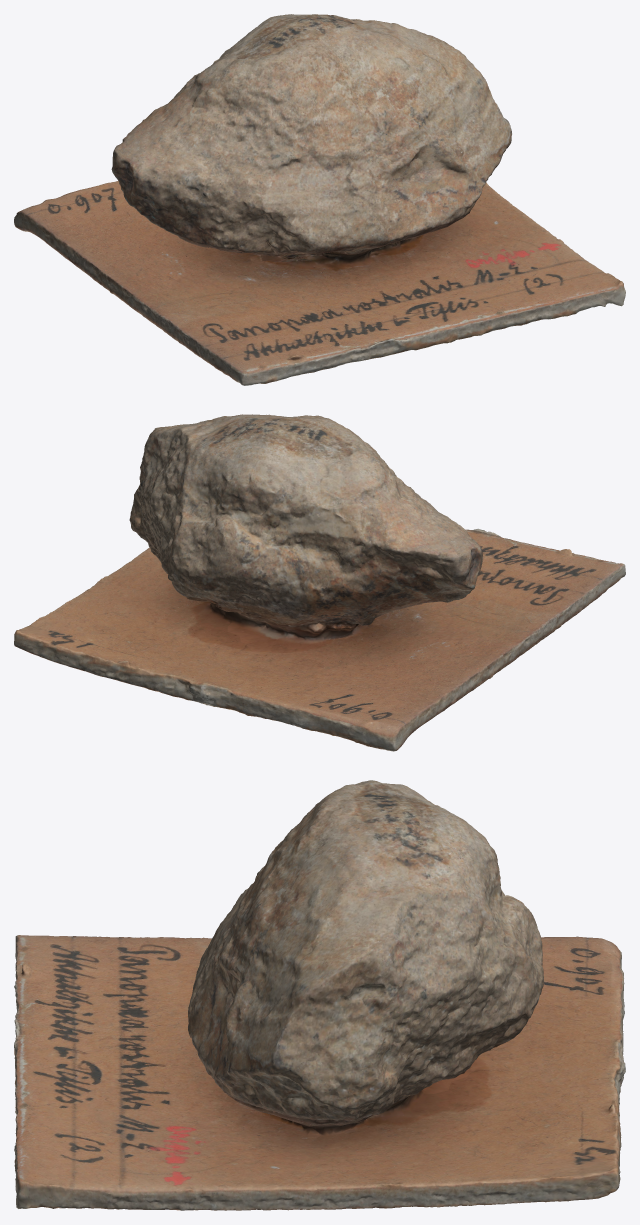
The model's file is EWS0016459.glb.
The picture shows the model from 3 angles, top to bottom: view 1: azimuth 30°, elevation 25°; view 2: azimuth 150°, elevation 25°; view 3: azimuth 270°, elevation 25°; orthographic projection. The views are drawn at different scales.
Visible parts, largest first — view 1: input; view 2: input; view 3: input.
Part boxes in pixels (<box>): input: <box>14,14,625,385</box>; input: <box>14,414,625,751</box>; input: <box>14,780,625,1210</box>.
Size of the model in its own units: 0.0528 by 0.0291 by 0.0553.
1 material, 1 textured.
